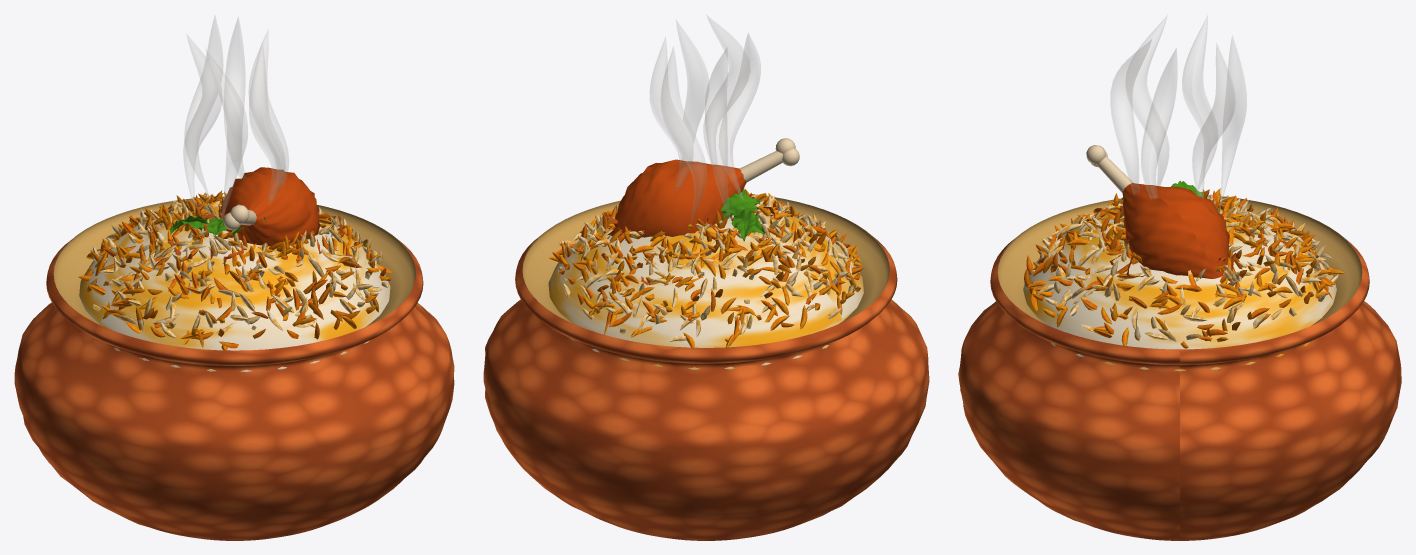
The model's file is steaming-biryani-handi.glb.
The picture shows the model from 3 angles, left to right: view 1: azimuth 30°, elevation 25°; view 2: azimuth 150°, elevation 25°; view 3: azimuth 270°, elevation 25°; orthographic projection.
Parts seen in each view (by area): view 1: steaming-handi-vessel, steaming-biryani-rice, aromatic-steam-wisps, steaming-biryani-handi, crowned-drumstick; view 2: steaming-handi-vessel, steaming-biryani-rice, aromatic-steam-wisps, crowned-drumstick, steaming-biryani-handi; view 3: steaming-handi-vessel, steaming-biryani-rice, aromatic-steam-wisps, crowned-drumstick, steaming-biryani-handi.
Part boxes in pixels (box(x1,y1,x2,y2)): steaming-handi-vessel: box(14, 236, 454, 540); steaming-biryani-rice: box(78, 190, 392, 372); aromatic-steam-wisps: box(183, 16, 288, 220); steaming-biryani-handi: box(41, 196, 435, 326); crowned-drumstick: box(220, 167, 320, 246); steaming-handi-vessel: box(483, 232, 929, 540); steaming-biryani-rice: box(548, 188, 864, 369); aromatic-steam-wisps: box(650, 15, 760, 223); crowned-drumstick: box(611, 138, 799, 237); steaming-biryani-handi: box(509, 188, 904, 323); steaming-handi-vessel: box(958, 235, 1401, 540); steaming-biryani-rice: box(1023, 188, 1344, 371); aromatic-steam-wisps: box(1110, 15, 1246, 208); crowned-drumstick: box(1086, 145, 1229, 278); steaming-biryani-handi: box(975, 180, 1384, 325).
Size of the model in its own units: 0.2853 by 0.335 by 0.2869.
Materials: 8 (2 with a texture image).
